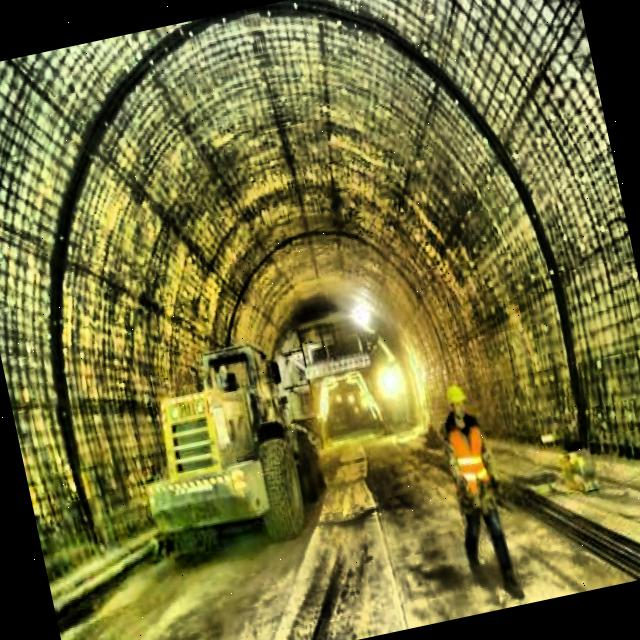helmet: (444, 381, 471, 423)
